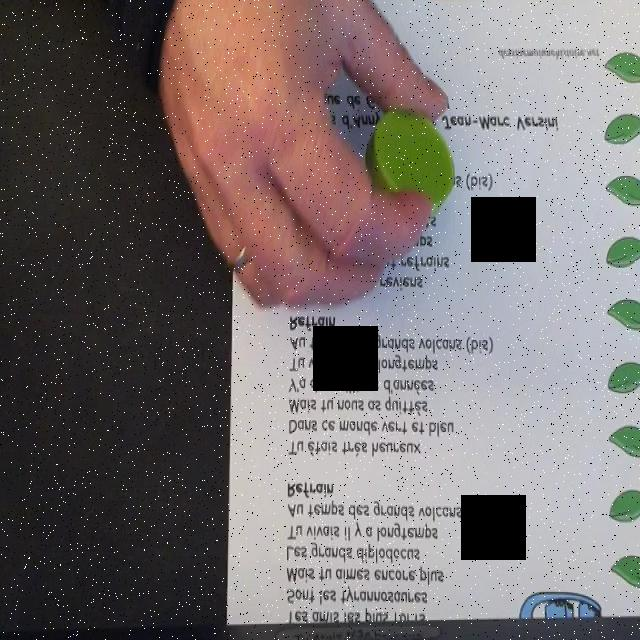round: (365, 108, 457, 224)
